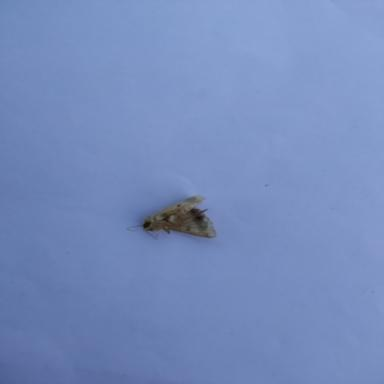abw: (124, 194, 217, 240)
